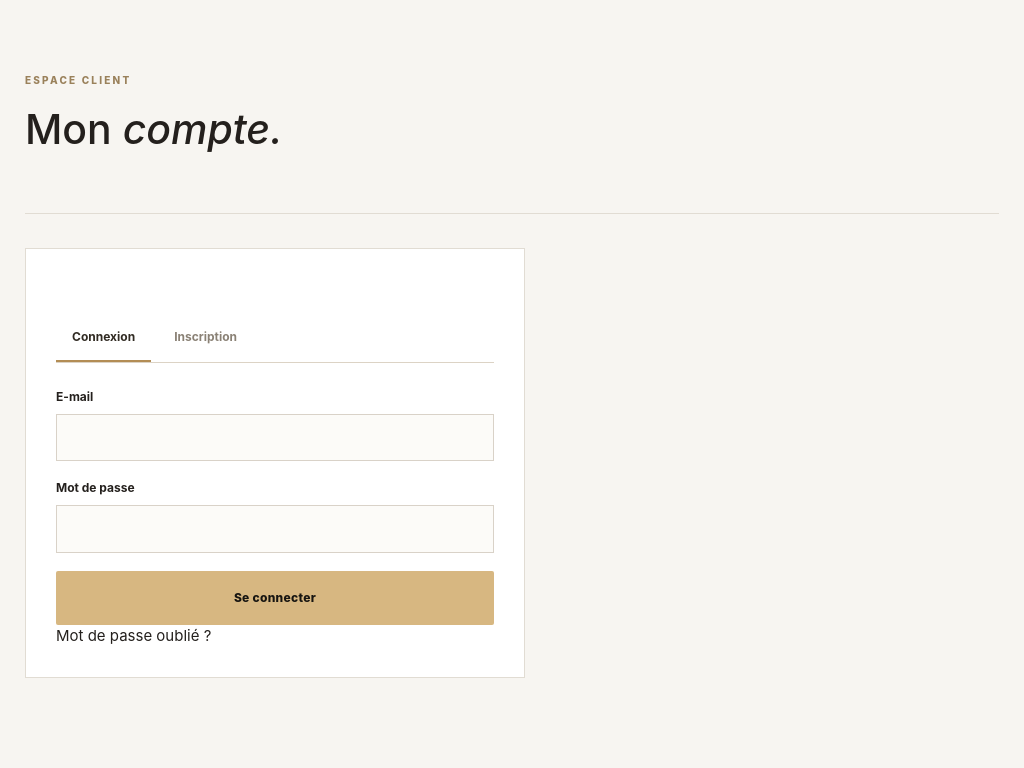
it: affiche le refus de connexion
Type "alice@example.com" into the field labelled "E-mail" at (275, 437), box [56,414,494,461]
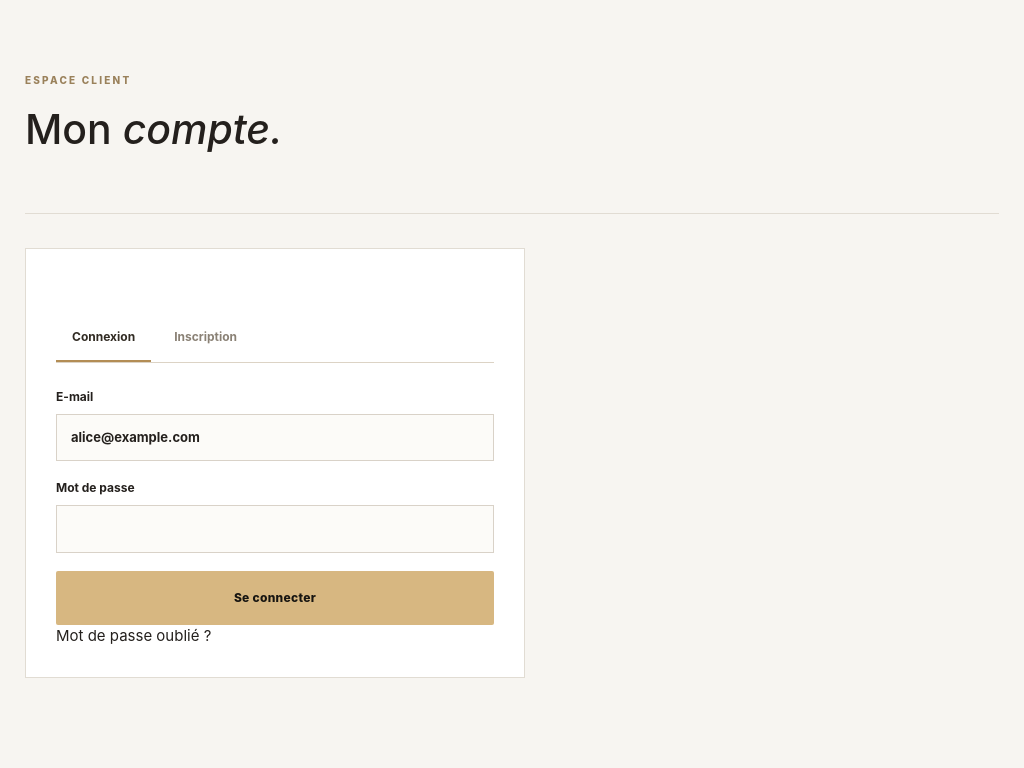
Type "Secret123!" into the password field labelled "Mot de passe" at (275, 529), box [56,505,494,553]
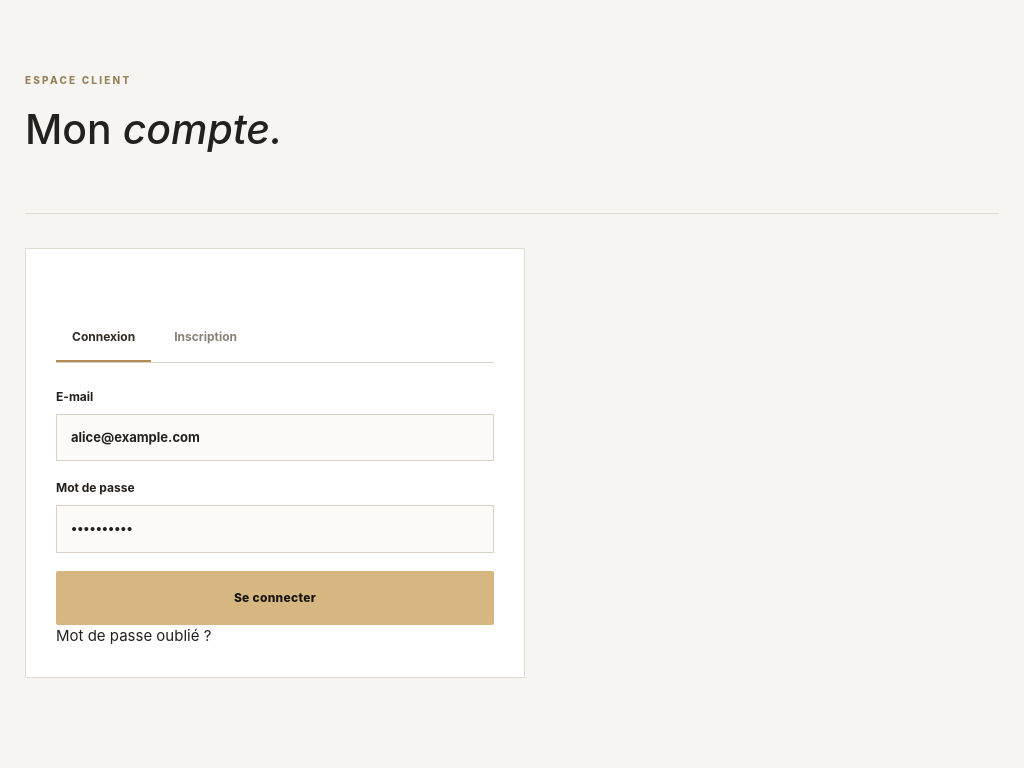
Click the button "Se connecter" at (275, 598), box [56,571,494,625]
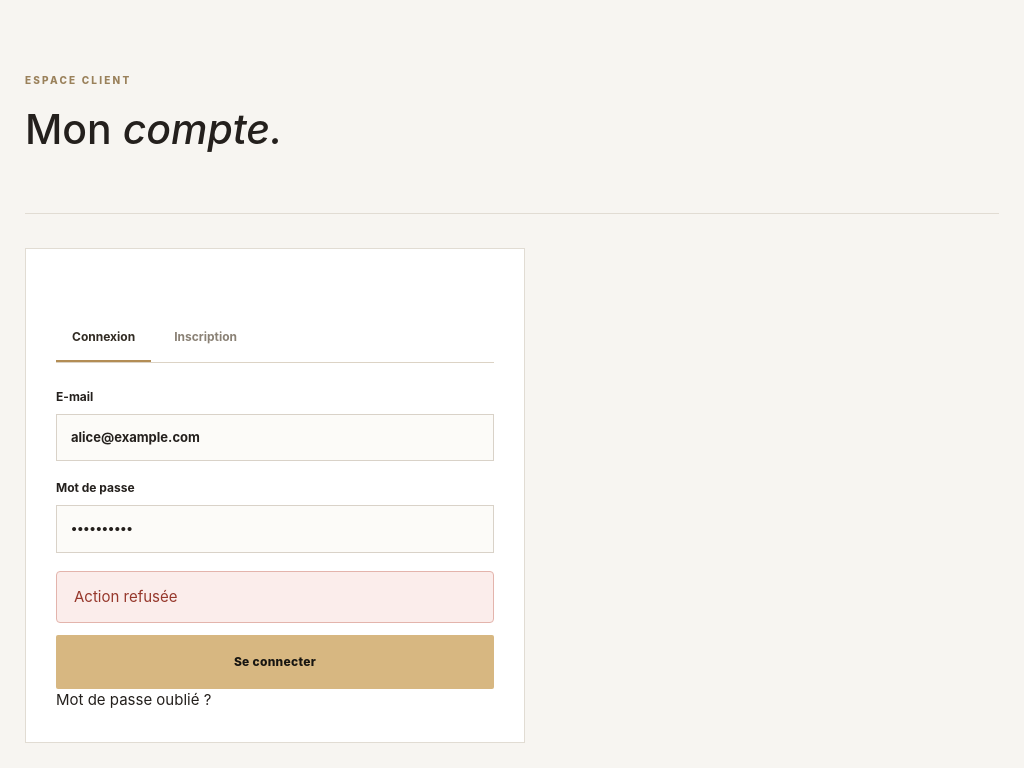
Expected: the text "Action refusée" is shown, [56,571,494,623]
